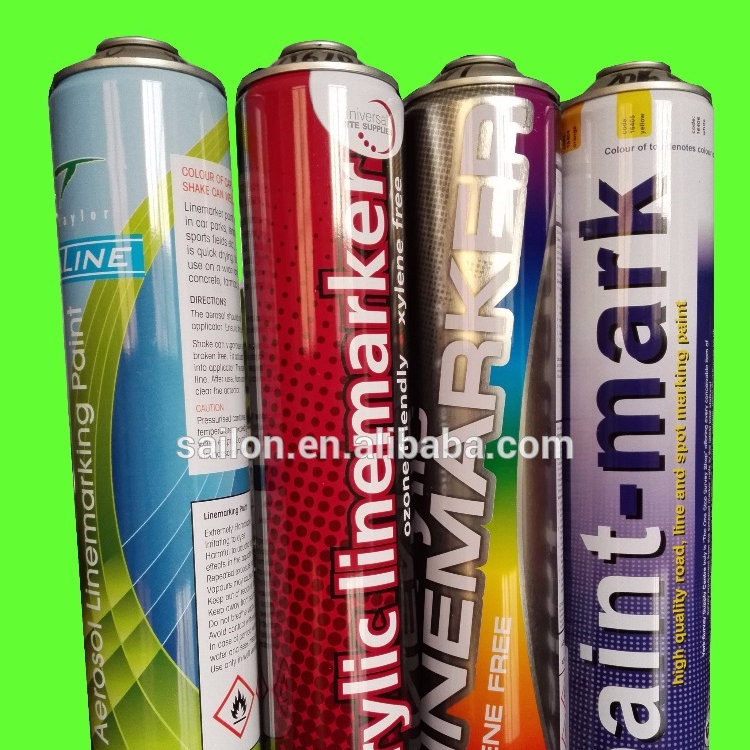Aerosol_cans: (43, 31, 276, 750), (236, 36, 419, 750), (397, 47, 574, 750), (552, 54, 720, 750)
